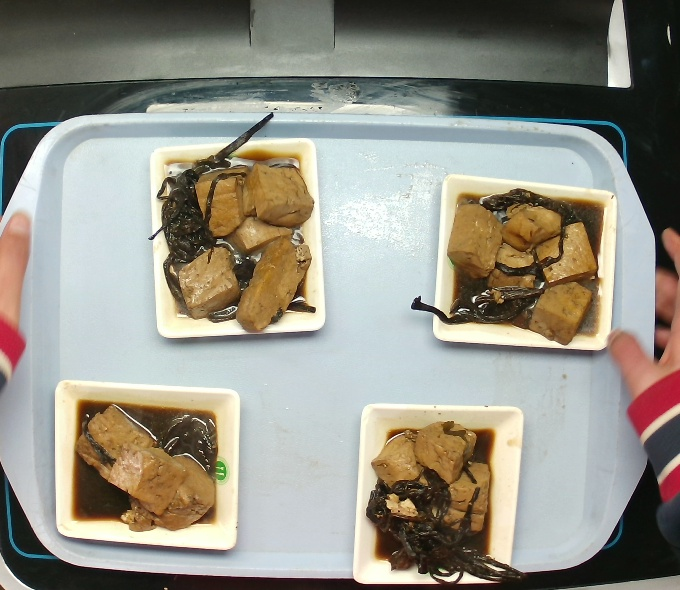wcq-CaiLuDouFu: (143, 140, 328, 332), (421, 181, 614, 346), (60, 384, 233, 542), (365, 411, 505, 581)
